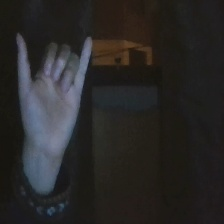Y: (6, 23, 104, 174)
